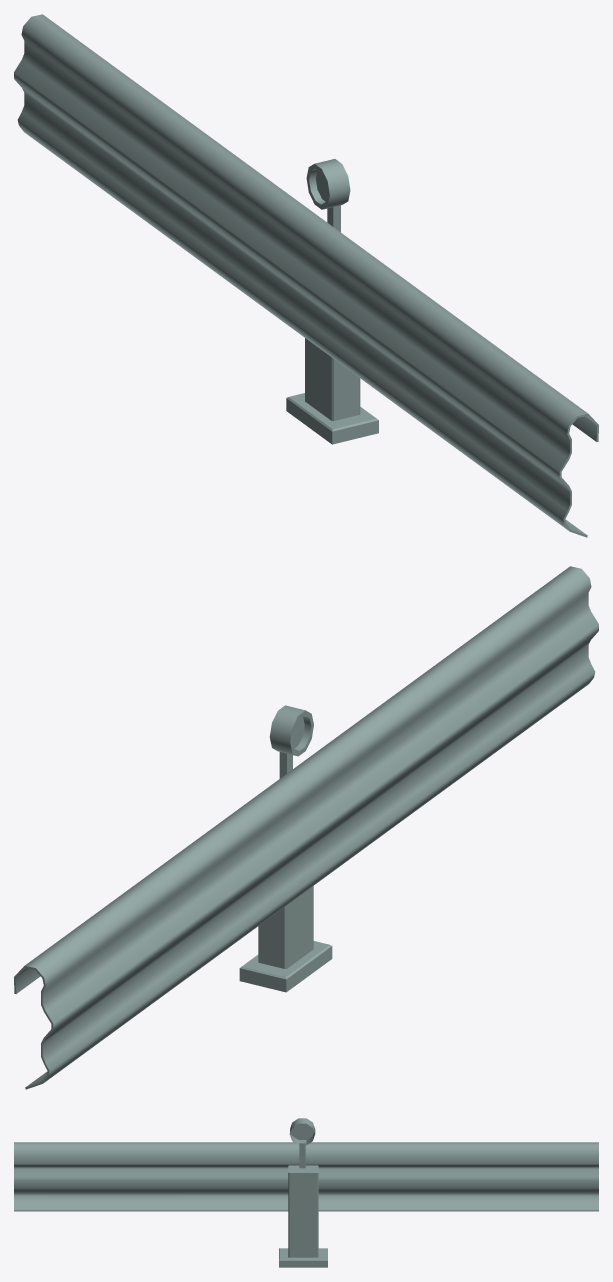
The model's file is SMOD_MetalBarrier.fbx.
3 renders of one model, top to bottom at view 1: azimuth 30°, elevation 25°; view 2: azimuth 150°, elevation 25°; view 3: azimuth 270°, elevation 25°, orthographic. The views are drawn at different scales.
Visible parts, largest first — view 1: SMOD_MetalBarrier; view 2: SMOD_MetalBarrier; view 3: SMOD_MetalBarrier.
Part boxes in pixels (bbox=[...]): SMOD_MetalBarrier: bbox=[14, 14, 598, 537]; SMOD_MetalBarrier: bbox=[14, 566, 598, 1089]; SMOD_MetalBarrier: bbox=[14, 1118, 598, 1267].
Bounding box in the file's own units: 69.63 × 261 × 992.
